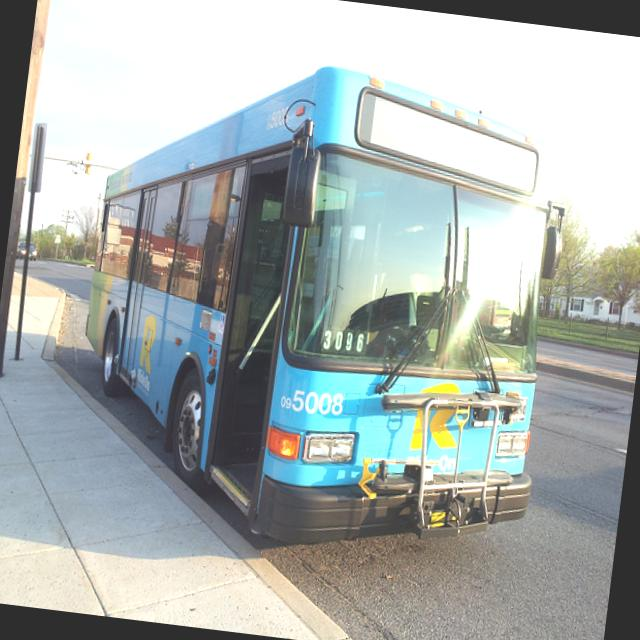Vehicle: (59, 42, 577, 572), (15, 240, 38, 262)
